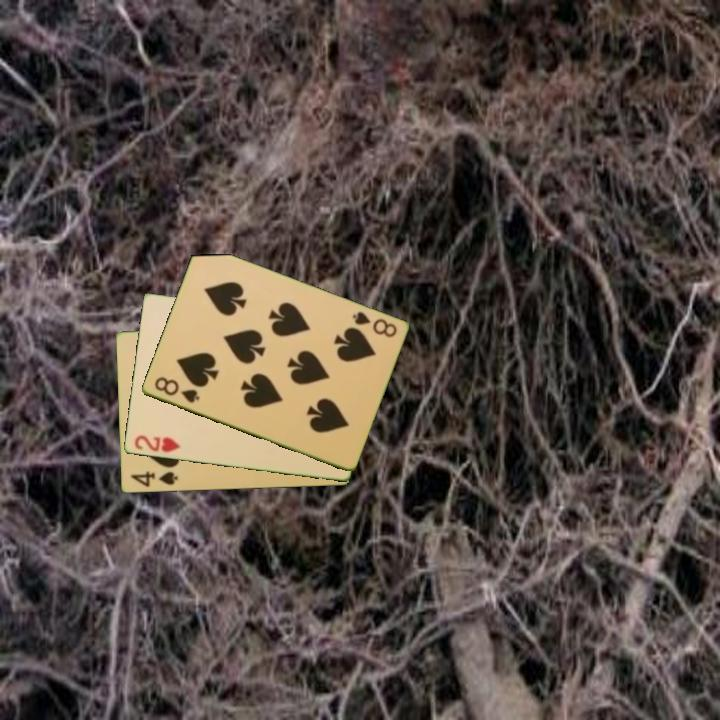2h: (131, 432, 183, 455)
4s: (127, 468, 181, 490)
8s: (151, 373, 202, 406), (348, 308, 399, 340)
